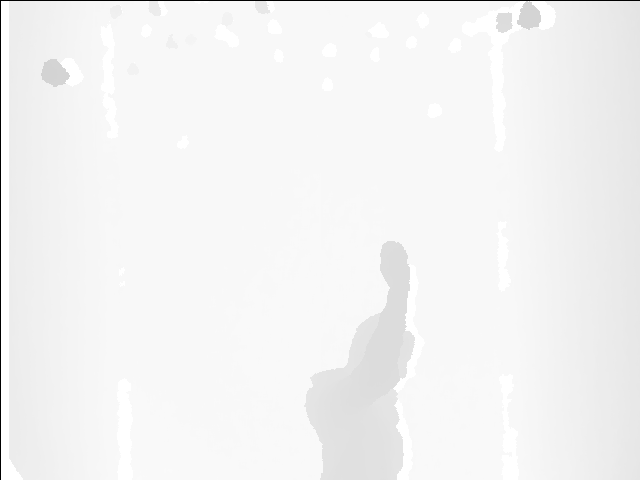hand: (378, 239, 411, 293)
